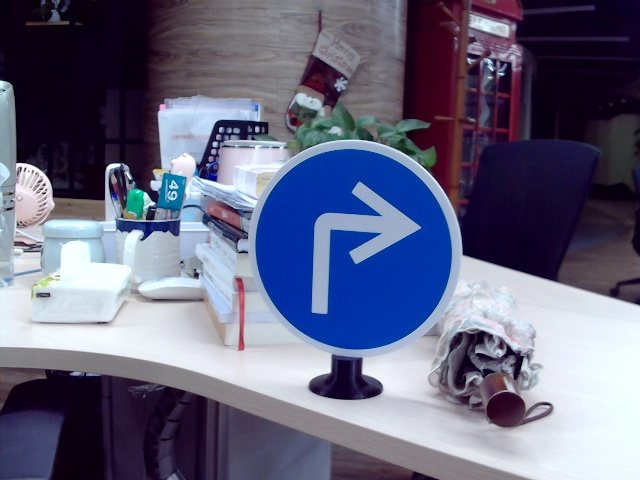turn_right: (297, 177, 420, 314)
